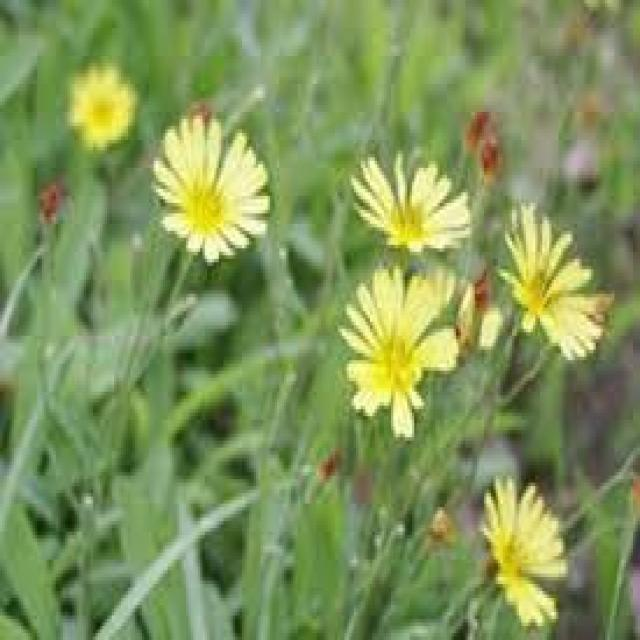organic waste: (329, 257, 469, 446), (155, 105, 280, 255), (504, 196, 611, 367), (338, 147, 477, 252), (477, 474, 566, 621)
